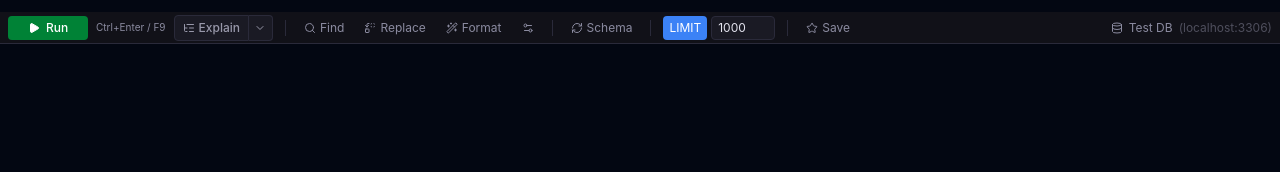
it: QueryToolbar › shows explain dropdown when chevron is clicked
The width and height of the screenshot is (1280, 172).
Click the button named "Explain options" at [261, 28], box [249, 14, 273, 40]
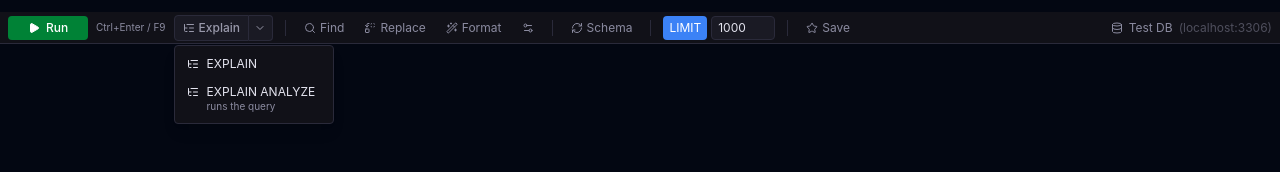
Expected: the text "EXPLAIN ANALYZE" is shown, [207, 84, 315, 98]
